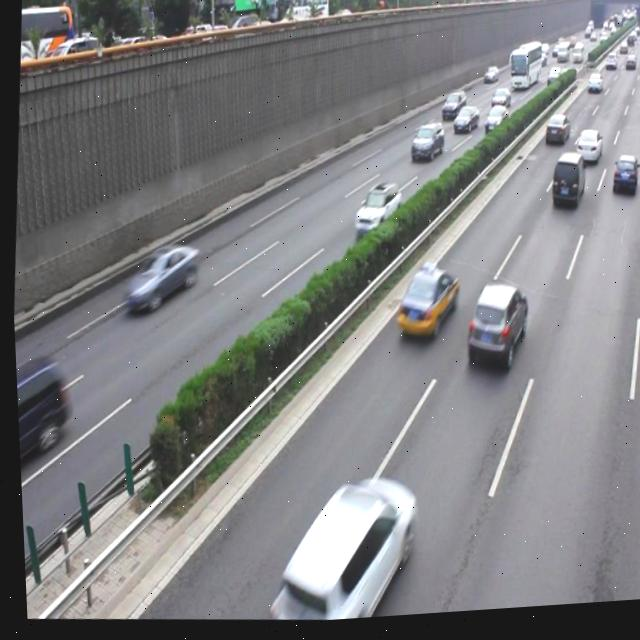car: (255, 465, 417, 628), (116, 236, 198, 320), (458, 284, 527, 379), (389, 264, 456, 346), (348, 182, 400, 246), (406, 124, 444, 166), (570, 134, 600, 174), (607, 160, 634, 204)
truck: (12, 350, 75, 467), (544, 156, 585, 219)
